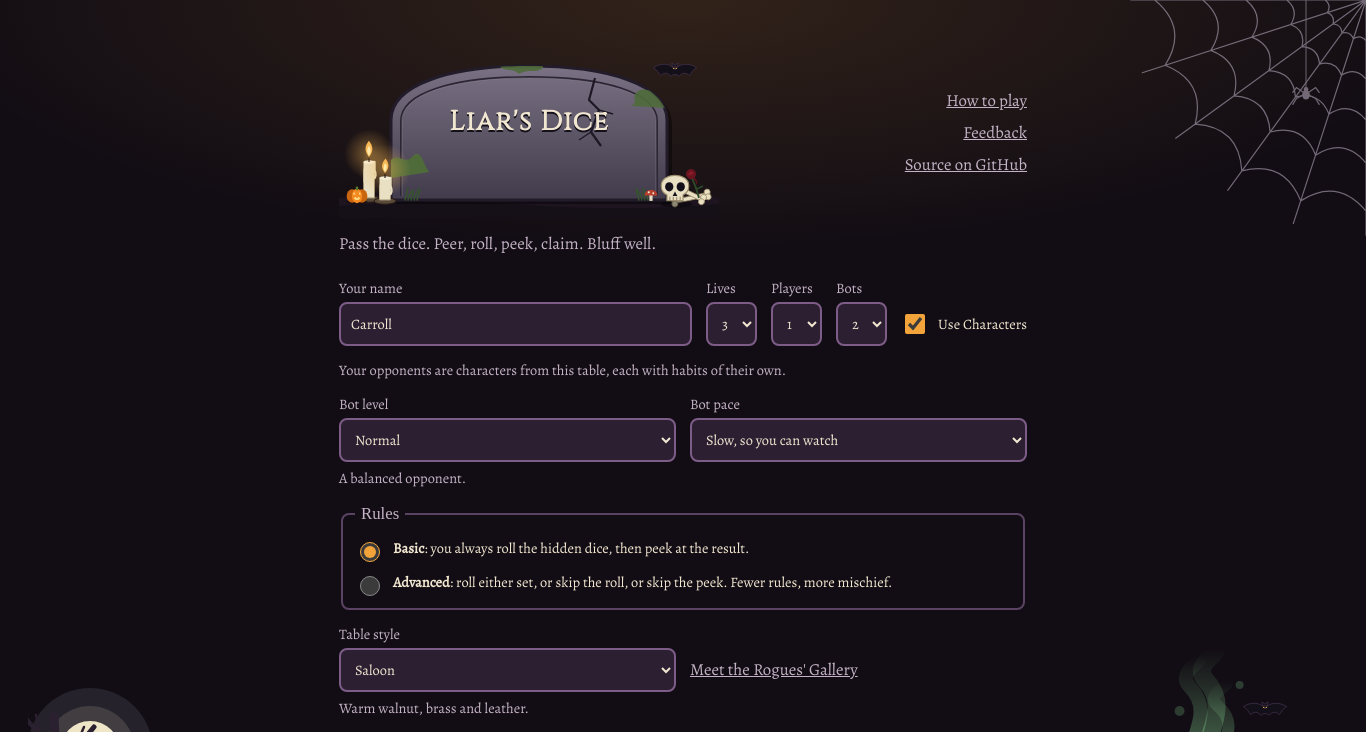
Scenario: Setup rules link › opens and closes the rules reference
Click the button "How to play" at (987, 101), box 946,85 -> 1027,117
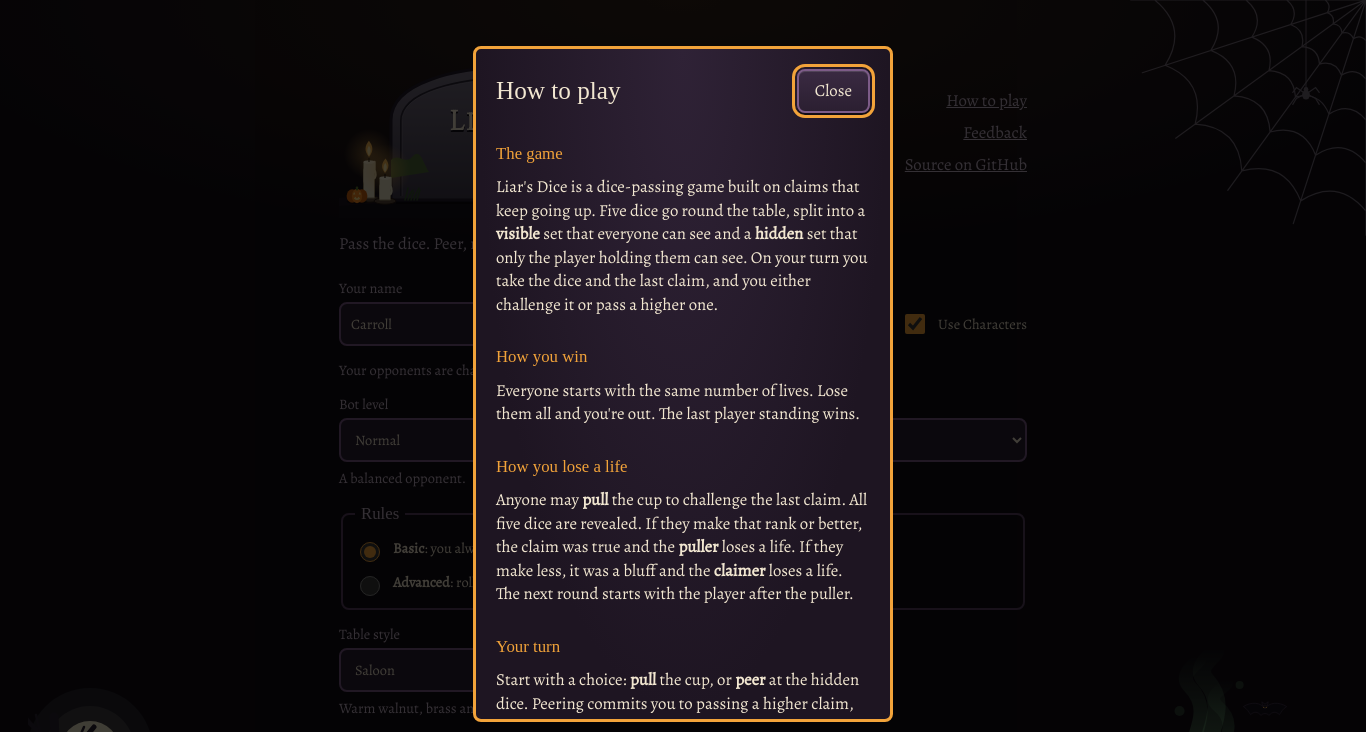
Result: the dialog "How to play" is shown at 473,46 -> 893,722
Press Escape
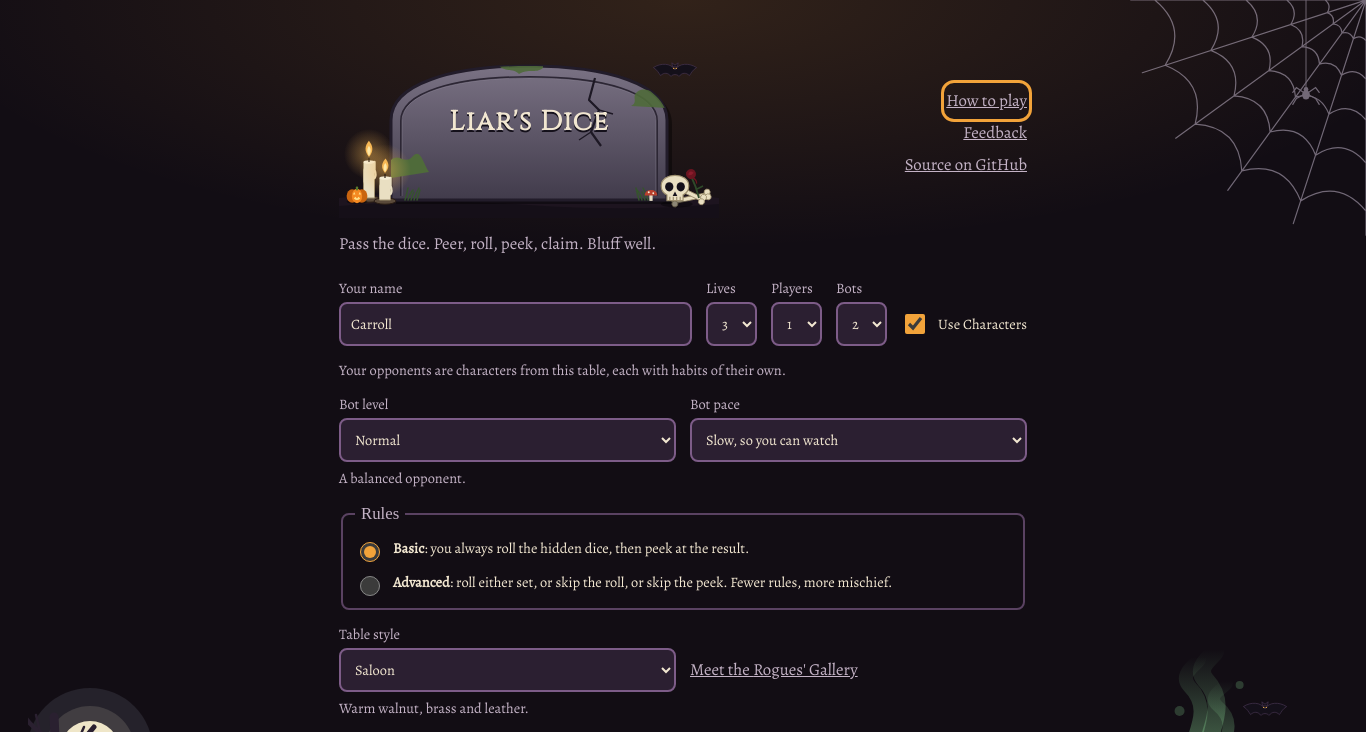
Result: the dialog is gone
